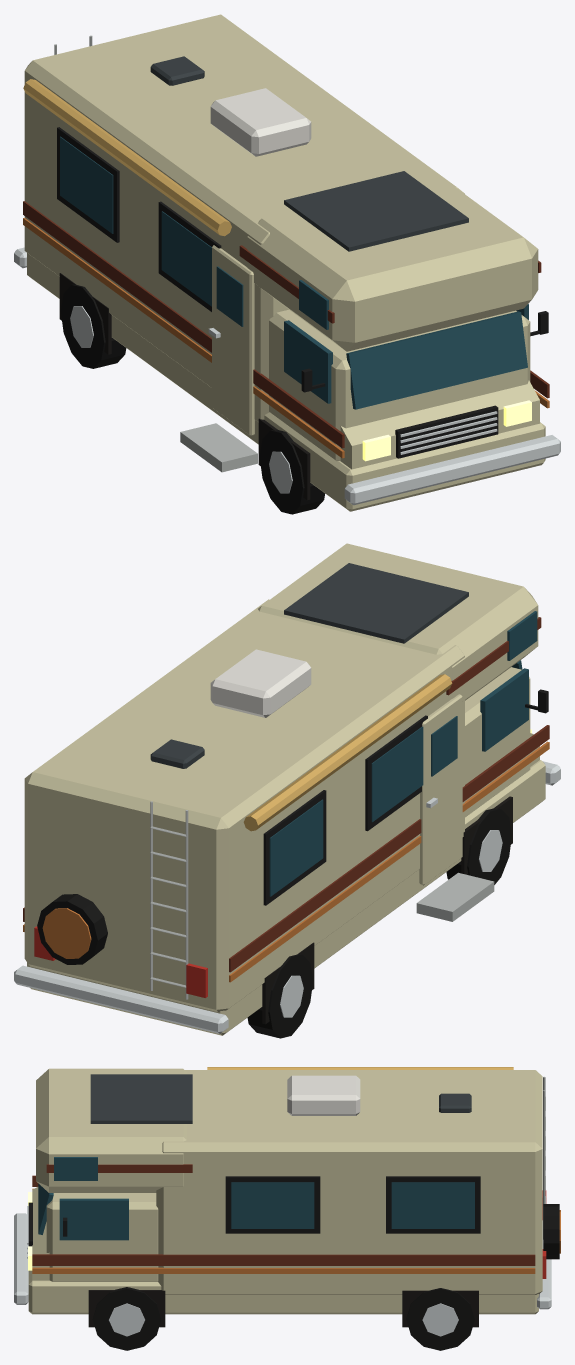
The model's file is WH_CamperRV.glb.
3 renders of one model, top to bottom at view 1: azimuth 30°, elevation 25°; view 2: azimuth 150°, elevation 25°; view 3: azimuth 270°, elevation 25°, orthographic. The views are drawn at different scales.
Visible parts, largest first — view 1: WH_CamperRV_LOD0, Door, Wheel_FR, Wheel_RR; view 2: WH_CamperRV_LOD0, Door, Wheel_RR, Wheel_FR; view 3: WH_CamperRV_LOD0, Wheel_FL, Wheel_RL.
Part boxes in pixels (x1,y1,x2,y2): WH_CamperRV_LOD0: (14, 14, 560, 511); Door: (208, 245, 254, 435); Wheel_FR: (259, 430, 325, 514); Wheel_RR: (60, 284, 126, 368); WH_CamperRV_LOD0: (14, 543, 560, 1035); Door: (419, 694, 462, 885); Wheel_RR: (247, 954, 313, 1038); Wheel_FR: (446, 808, 511, 884); WH_CamperRV_LOD0: (14, 1067, 560, 1327); Wheel_FL: (92, 1287, 161, 1350); Wheel_RL: (406, 1288, 474, 1350).
Bounding box in the file's own units: 3.23 × 3.41 × 7.5.
